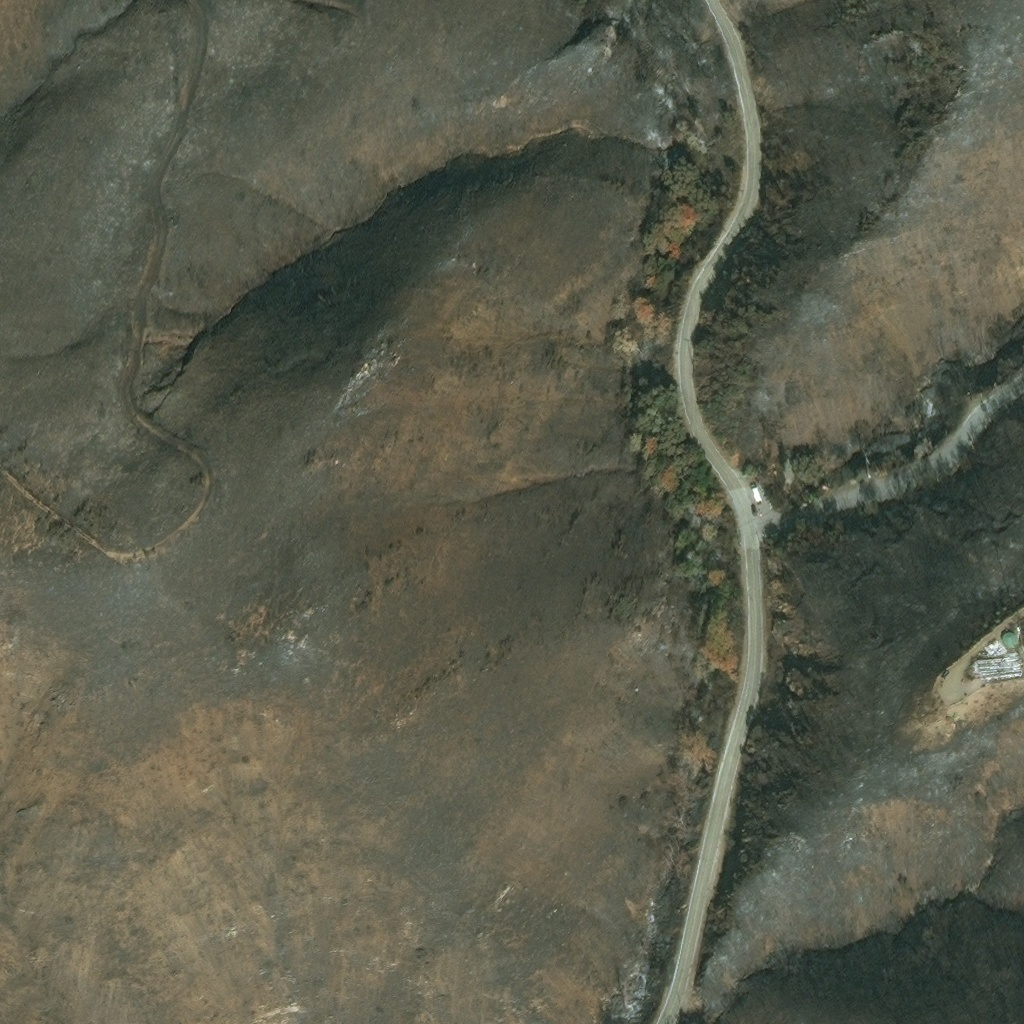0 no-damage: (1001, 629, 1018, 647)
3 destroyed: (975, 652, 1023, 680), (984, 634, 1007, 654)
